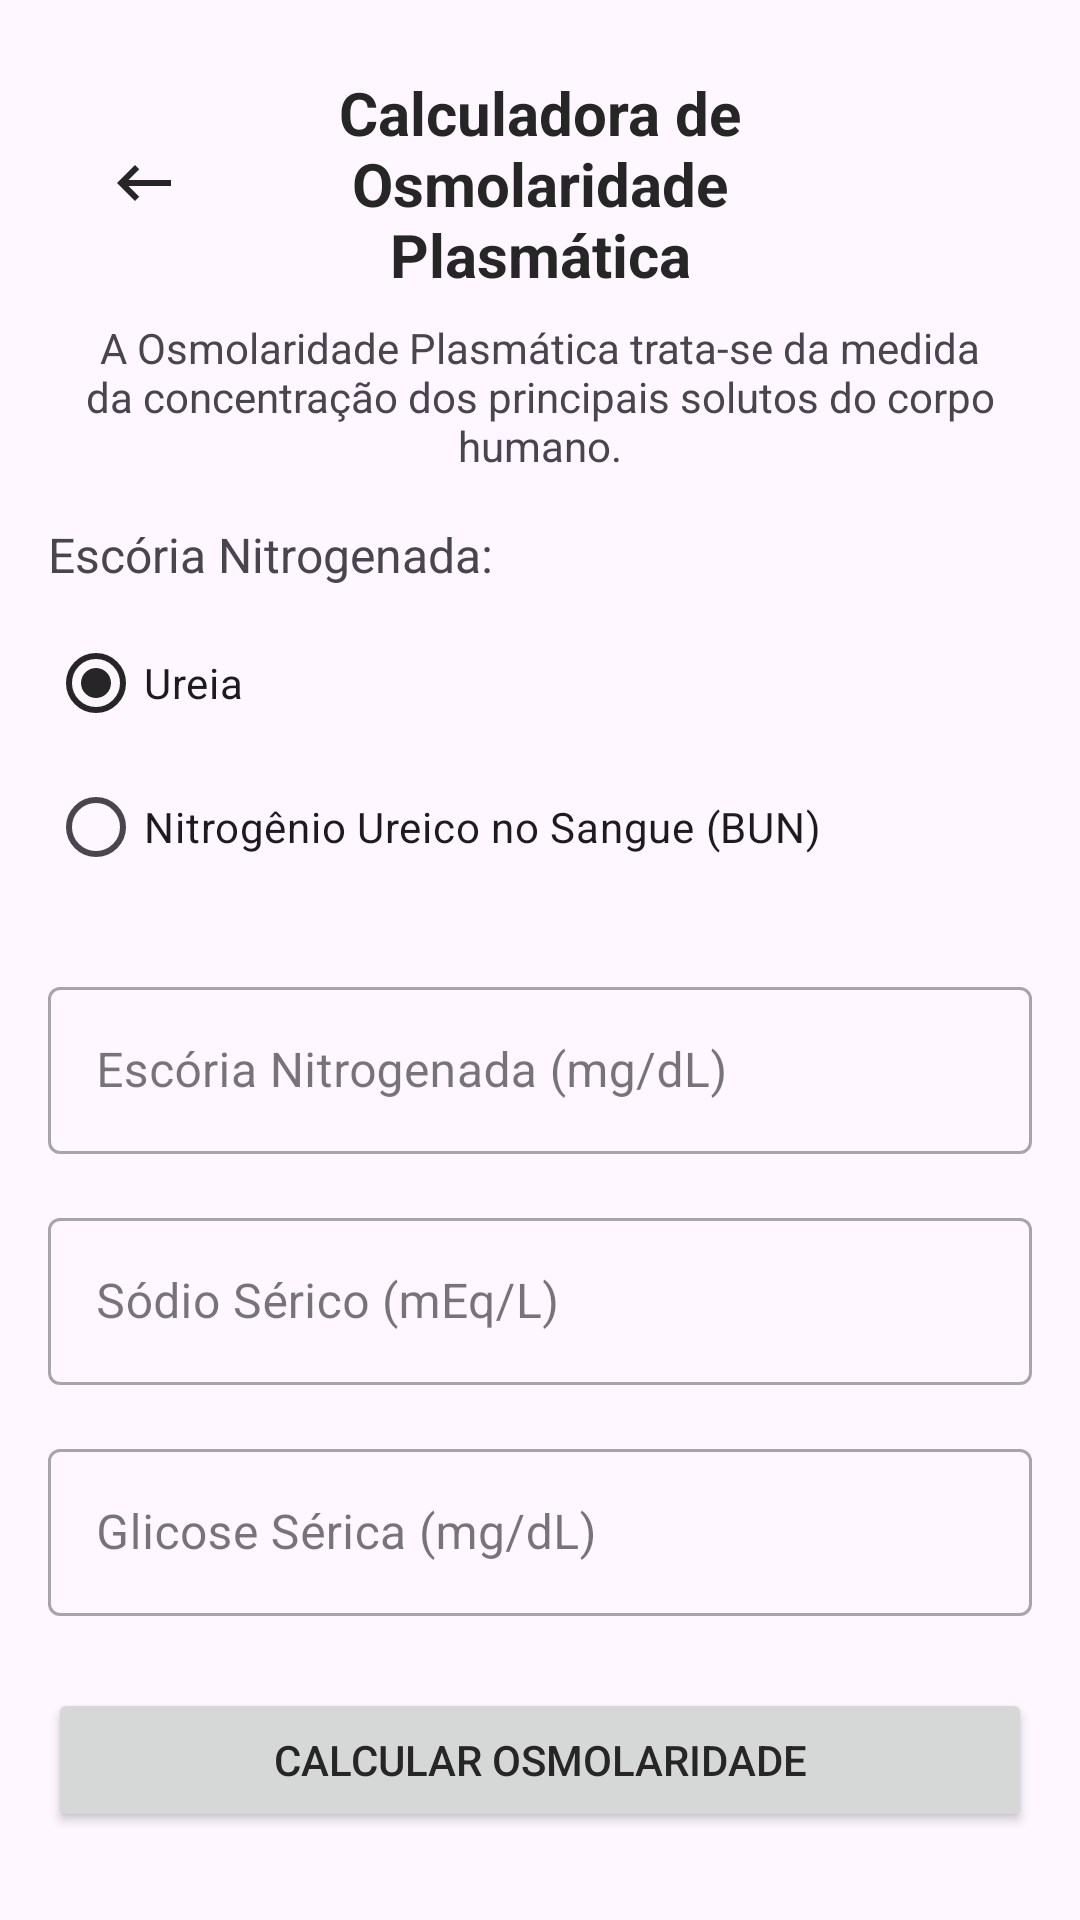

Named icons in this screenshot (1080*1920) and their bounding boxes, (x1, y1, x2, y2):
Voltar: (117, 165, 171, 201)
